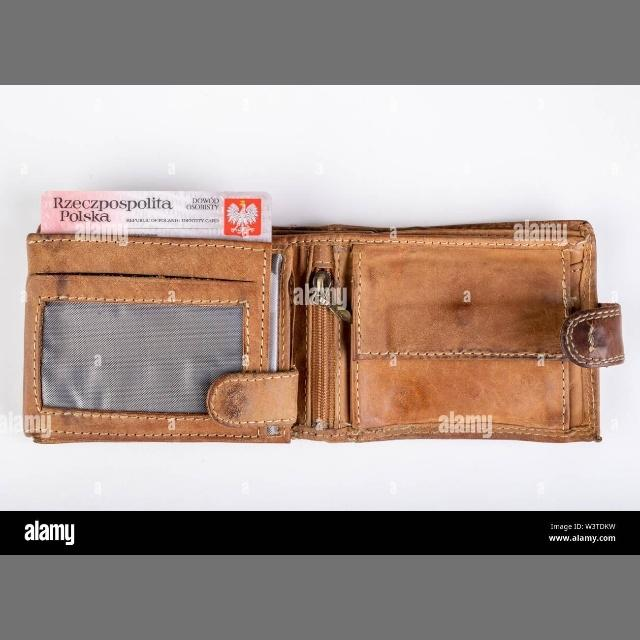Wallet: (19, 169, 640, 457)
